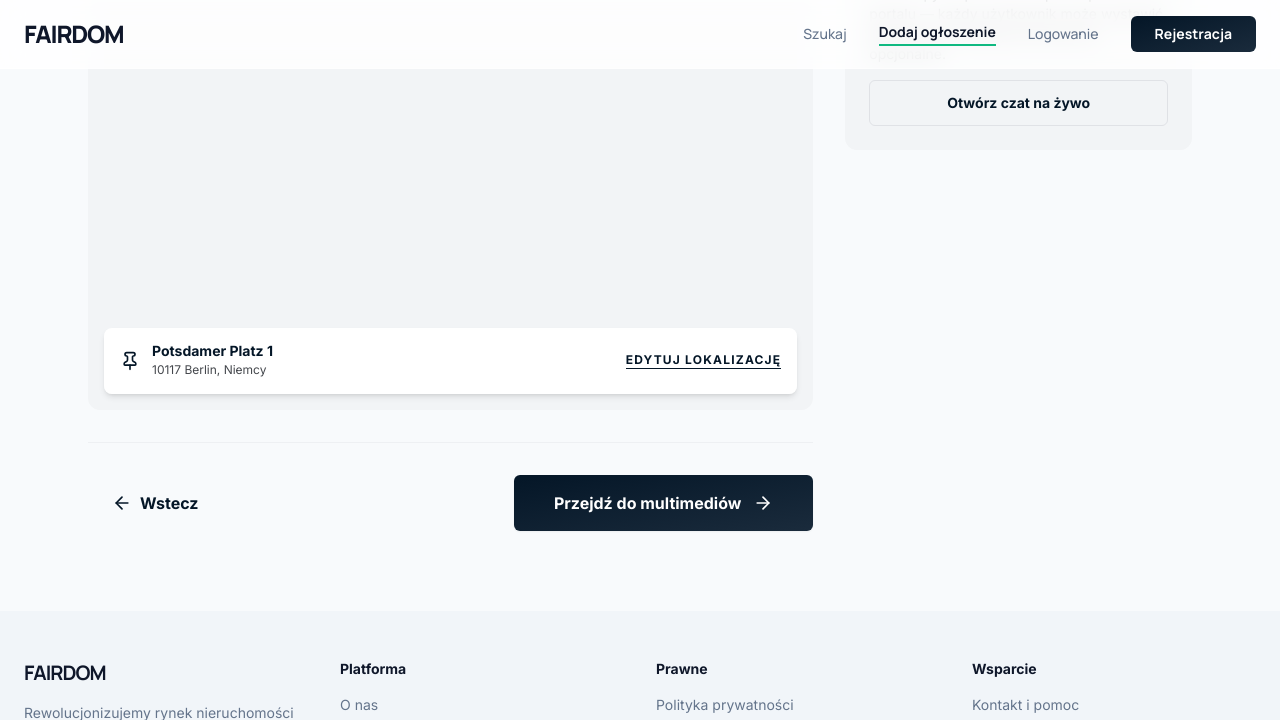
Scenario: PropertyDetailsStep (wizard step 3) › toggles map location edit mode
(page scrolled)
Click the button "Edytuj lokalizację" at (704, 361), box [626, 352, 781, 370]
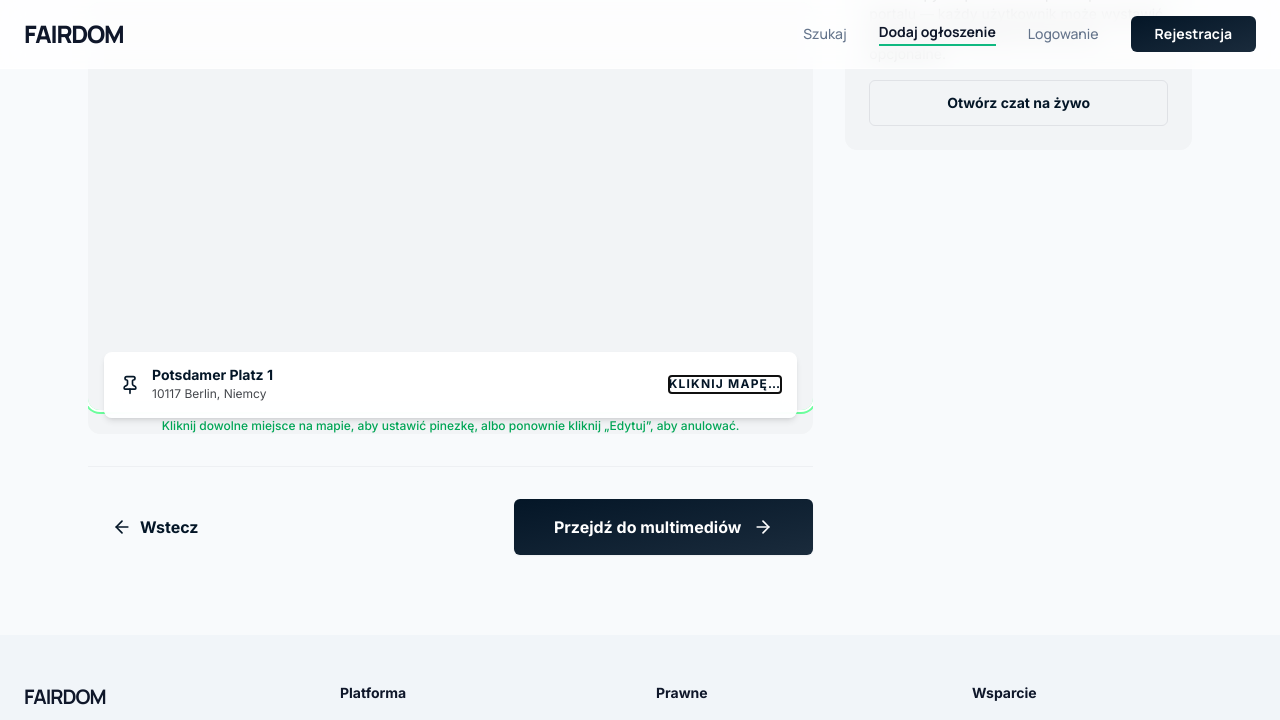
Expected: the button "Kliknij mapę…" is shown, [669, 376, 781, 394]
